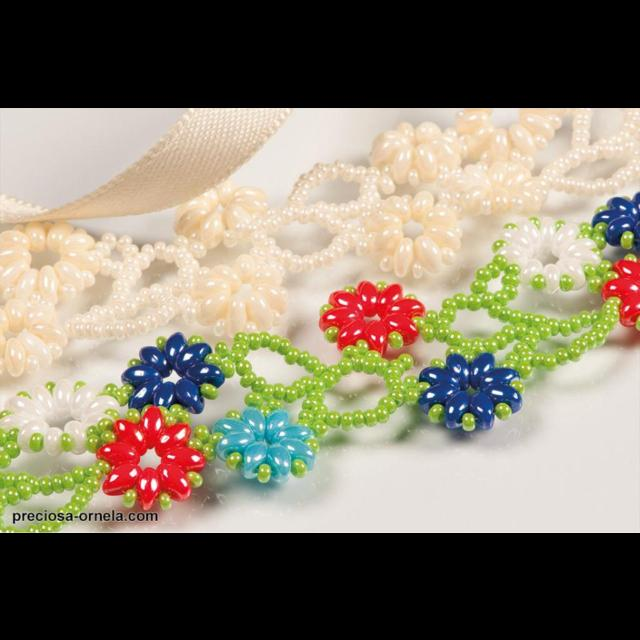Flower: (100, 404, 208, 504), (0, 380, 126, 454), (496, 215, 604, 293), (368, 188, 460, 278), (420, 352, 522, 432), (213, 405, 315, 483), (198, 248, 286, 336), (0, 220, 104, 294), (119, 332, 224, 404), (175, 176, 275, 248), (334, 279, 424, 349), (368, 121, 458, 177), (460, 107, 560, 155), (461, 158, 541, 214), (0, 300, 60, 370), (591, 192, 639, 250), (602, 256, 640, 328)
